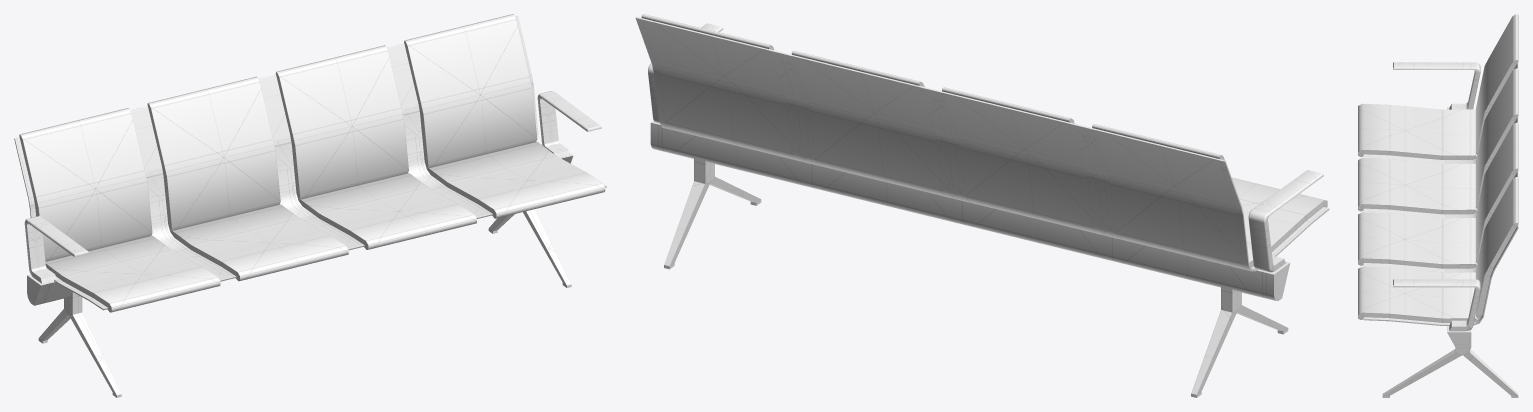
Rendered from TerminalBench.fbx.
3 renders of one model, left to right at view 1: azimuth 30°, elevation 25°; view 2: azimuth 150°, elevation 25°; view 3: azimuth 270°, elevation 25°, orthographic. The views are drawn at different scales.
Parts seen in each view (by area): view 1: TerminalBench; view 2: TerminalBench; view 3: TerminalBench.
Part boxes in pixels (x1,y1,x2,y2): TerminalBench: [14, 14, 606, 397]; TerminalBench: [635, 14, 1329, 397]; TerminalBench: [1358, 14, 1518, 397].
Bounding box in the file's own units: 2.2 × 0.6634 × 0.8343.
1 material, 1 textured.
